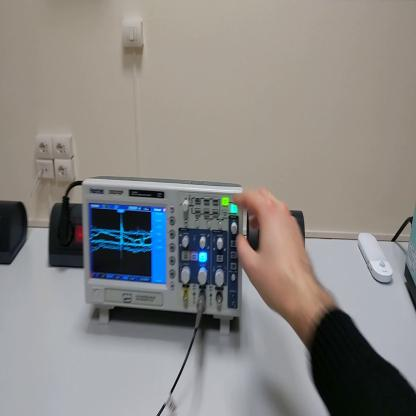hand: (234, 188, 312, 315)
oscilloscope: (80, 176, 244, 340)
socket: (48, 202, 85, 269), (2, 200, 30, 267)
welder station: (404, 207, 416, 309)
